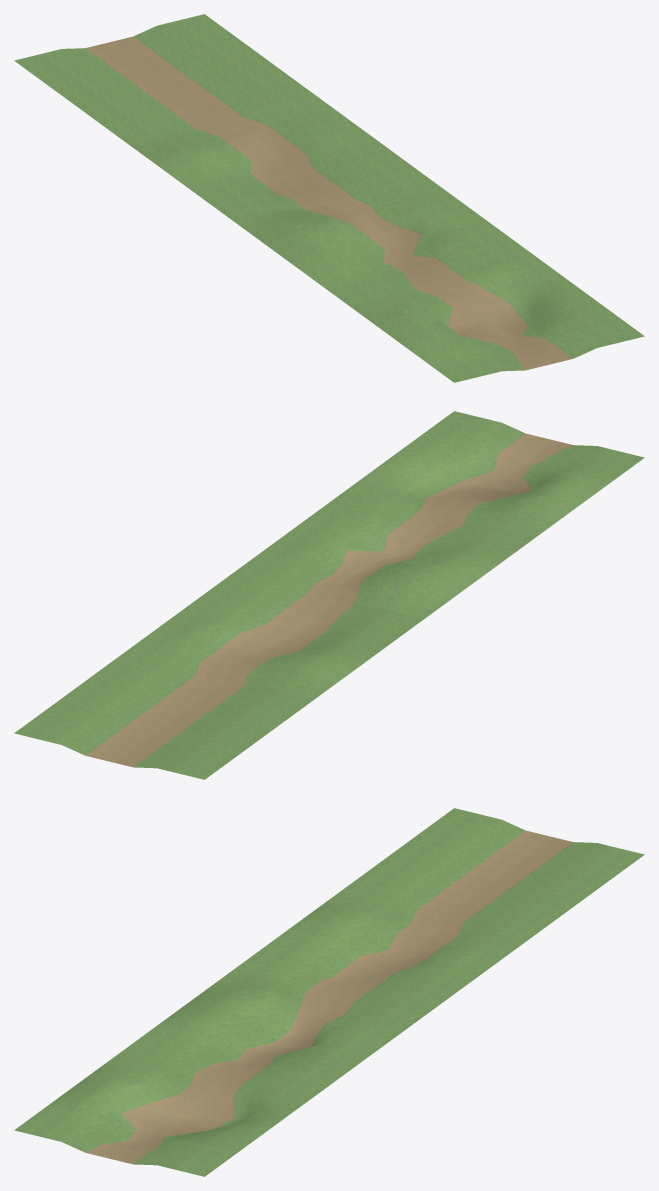
The model's file is tilesfinal.glb.
3 views of the same model, one above another, from view 1: azimuth 30°, elevation 25°; view 2: azimuth 150°, elevation 25°; view 3: azimuth 330°, elevation 25° (orthographic).
Parts seen in each view (by area): view 1: PlaneC_t-col, Plane_t-col, PlaneB_t-col, PlaneD_t-col; view 2: PlaneB_t-col, PlaneD_t-col, Plane_t-col, PlaneC_t-col; view 3: PlaneC_t-col, Plane_t-col, PlaneB_t-col, PlaneD_t-col.
Boxes of the visible parts, x1,y1,x2,y2 form: PlaneC_t-col: [234, 175, 534, 302]; Plane_t-col: [14, 14, 314, 140]; PlaneB_t-col: [124, 94, 424, 221]; PlaneD_t-col: [344, 256, 644, 382]; PlaneB_t-col: [124, 572, 424, 699]; PlaneD_t-col: [344, 411, 644, 537]; Plane_t-col: [14, 653, 314, 779]; PlaneC_t-col: [234, 491, 534, 618]; PlaneC_t-col: [124, 969, 424, 1096]; Plane_t-col: [344, 808, 644, 934]; PlaneB_t-col: [234, 888, 534, 1015]; PlaneD_t-col: [14, 1050, 314, 1176].
Size of the model in its own units: 40 by 5 by 160.
Materials: 2 (2 with a texture image).
